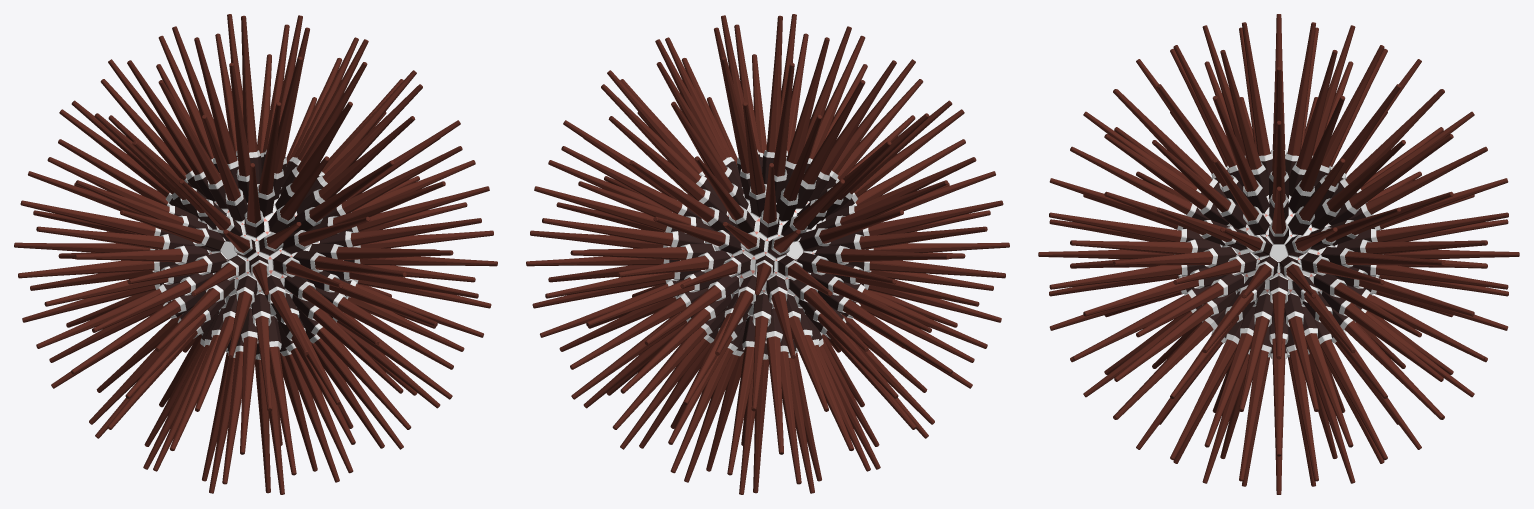
File: alien2.fbx
3 views of the same model, side by side, from view 1: azimuth 30°, elevation 25°; view 2: azimuth 150°, elevation 25°; view 3: azimuth 270°, elevation 25° (orthographic).
Visible parts, largest first — view 1: Icosphere; view 2: Icosphere; view 3: Icosphere.
Part boxes in pixels (x1=…): Icosphere: x1=14, y1=14, x2=497, y2=494; Icosphere: x1=526, y1=14, x2=1009, y2=494; Icosphere: x1=1038, y1=14, x2=1519, y2=494.
Bounding box in the file's own units: 655 × 637 × 655.
